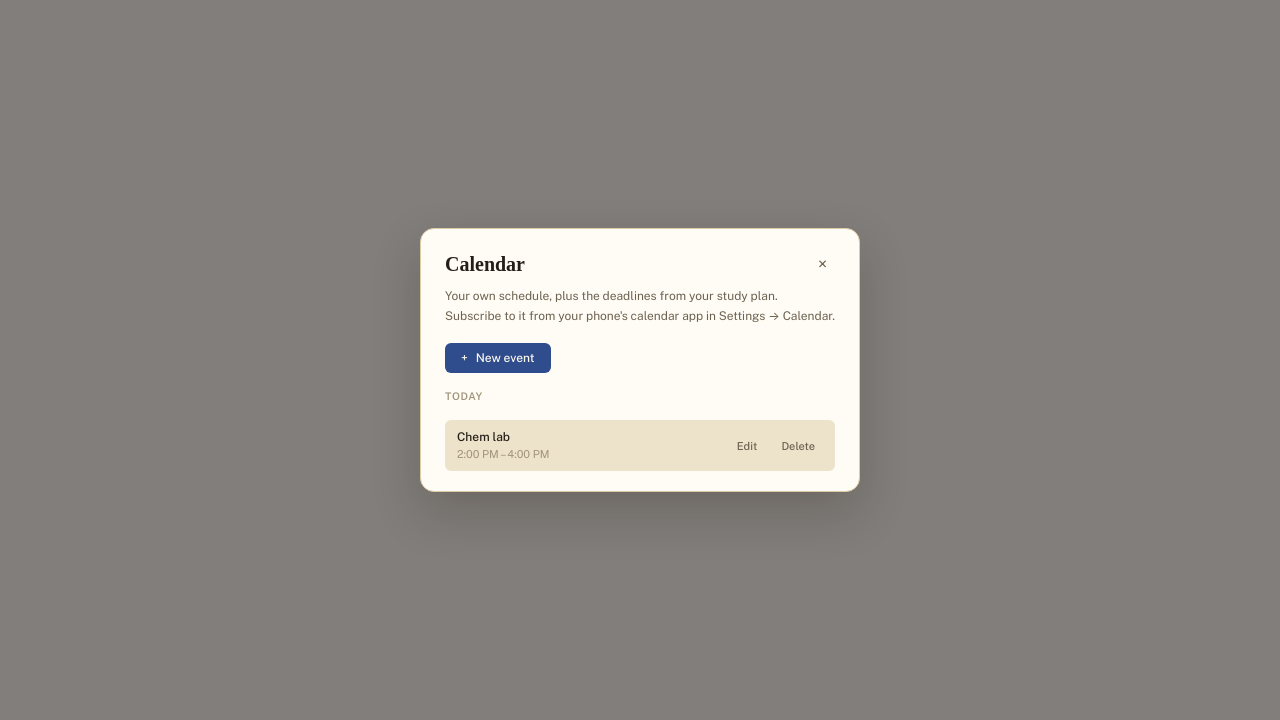
Scenario: CalendarPanel › deletes an event and drops it from the agenda
The image size is (1280, 720).
Expected: the text "Chem lab" is shown, [457,430,510,444]
Click the button with aria-label "delete chem lab" at [798, 446], box [773,436,823,456]
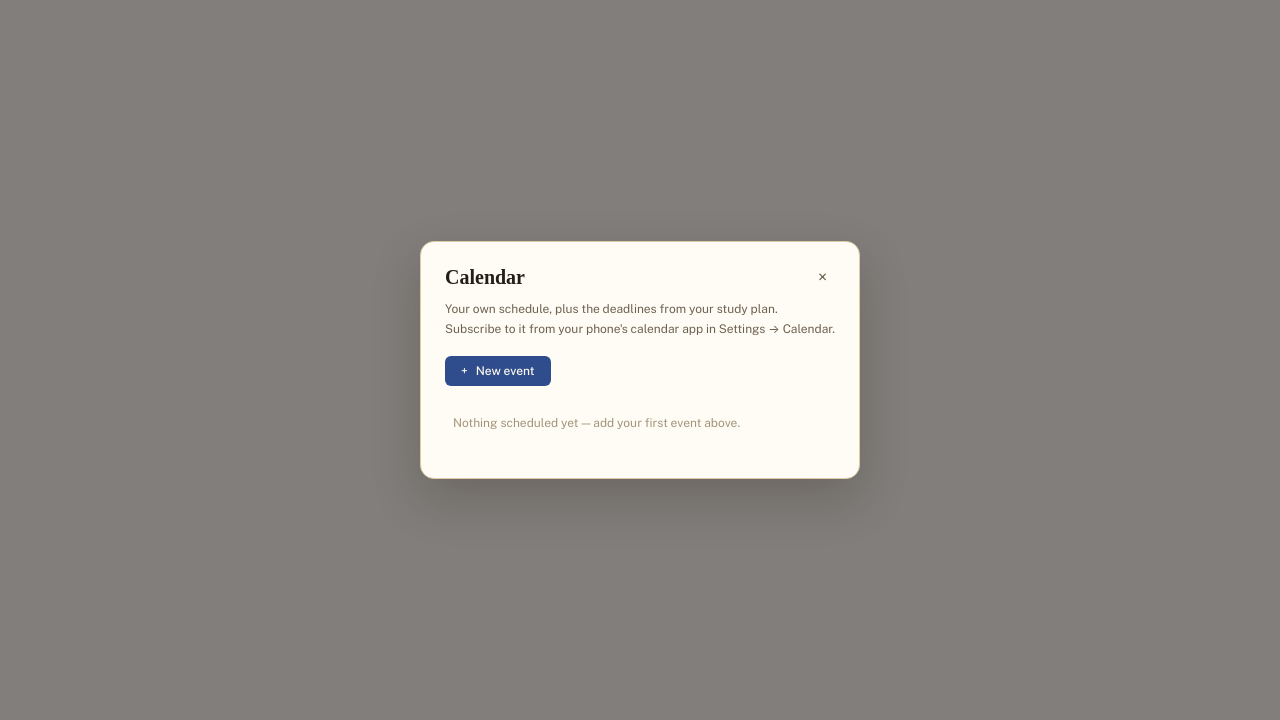
Now the text "Chem lab" is gone
